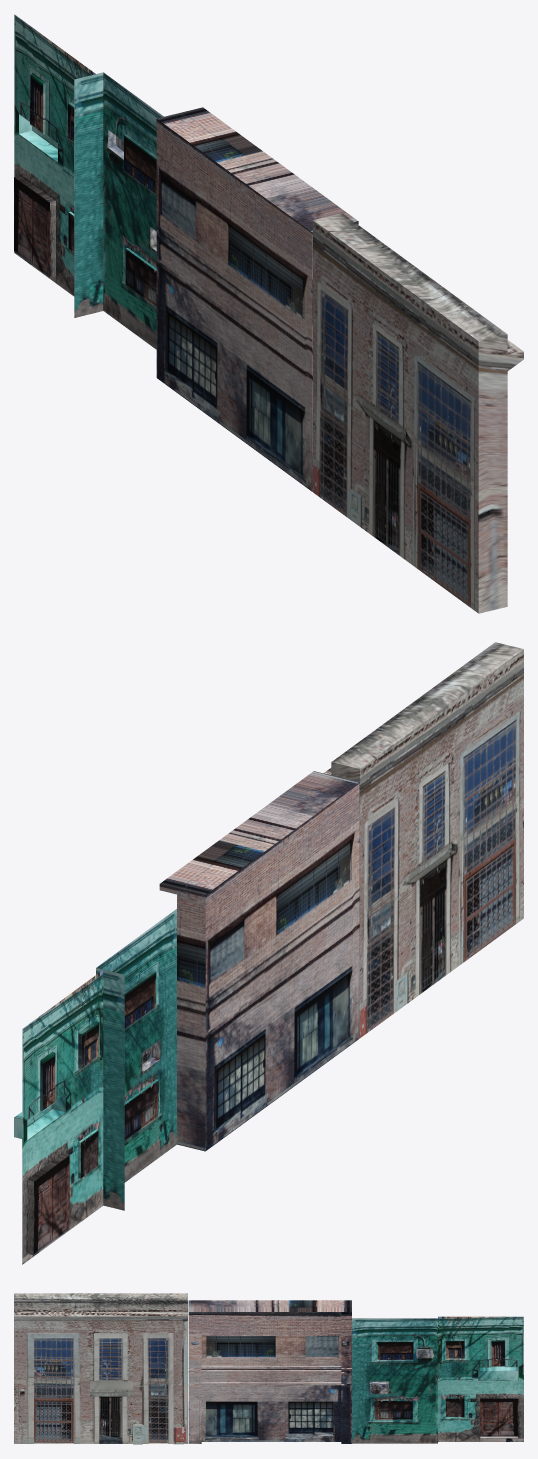
Rendered from GreenHouse_CasaLadrilloVisto_Apartamento_AchavalRodriguez.fbx.
The picture shows the model from 3 angles, top to bottom: view 1: azimuth 30°, elevation 25°; view 2: azimuth 150°, elevation 25°; view 3: azimuth 270°, elevation 25°; orthographic projection. The views are drawn at different scales.
Parts seen in each view (by area): view 1: Building_AchavalRodriguez, Building_AchavalRodriguez.006, Building_AchavalRodriguez.005, Building_AchavalRodriguez.008; view 2: Building_AchavalRodriguez.006, Building_AchavalRodriguez, Building_AchavalRodriguez.005, Building_AchavalRodriguez.008; view 3: Building_AchavalRodriguez, Building_AchavalRodriguez.006, Building_AchavalRodriguez.005, Building_AchavalRodriguez.008, Door_Apartamento.
Boxes of the visible parts, x1,y1,x2,y2 form: Building_AchavalRodriguez: (313, 213, 523, 613); Building_AchavalRodriguez.006: (156, 107, 358, 491); Building_AchavalRodriguez.005: (14, 14, 163, 349); Building_AchavalRodriguez.008: (14, 177, 49, 277); Building_AchavalRodriguez.006: (159, 771, 359, 1151); Building_AchavalRodriguez: (323, 642, 523, 1037); Building_AchavalRodriguez.005: (14, 909, 176, 1264); Building_AchavalRodriguez.008: (34, 1155, 69, 1254); Building_AchavalRodriguez: (14, 1293, 187, 1444); Building_AchavalRodriguez.006: (188, 1300, 351, 1443); Building_AchavalRodriguez.005: (352, 1316, 523, 1443); Building_AchavalRodriguez.008: (480, 1398, 517, 1436); Door_Apartamento: (99, 1396, 122, 1437).
Bounding box in the file's own units: 4.86 × 17.95 × 58.04.
